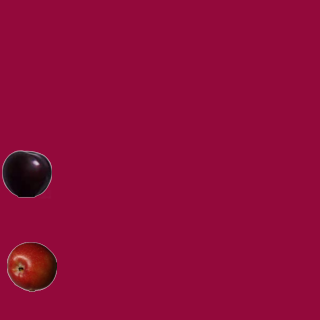Apple Braeburn: (6, 241, 56, 291)
Cherry Wax Black: (1, 148, 51, 198)
